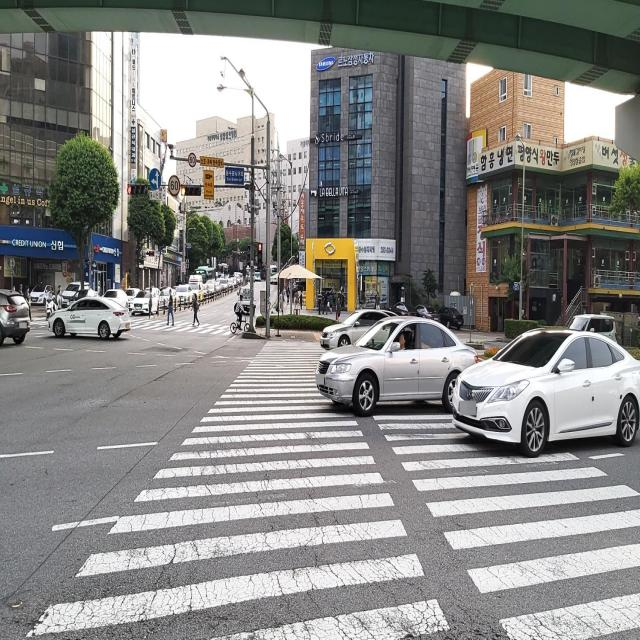빨간불: (15, 326, 640, 640), (257, 242, 263, 269)
